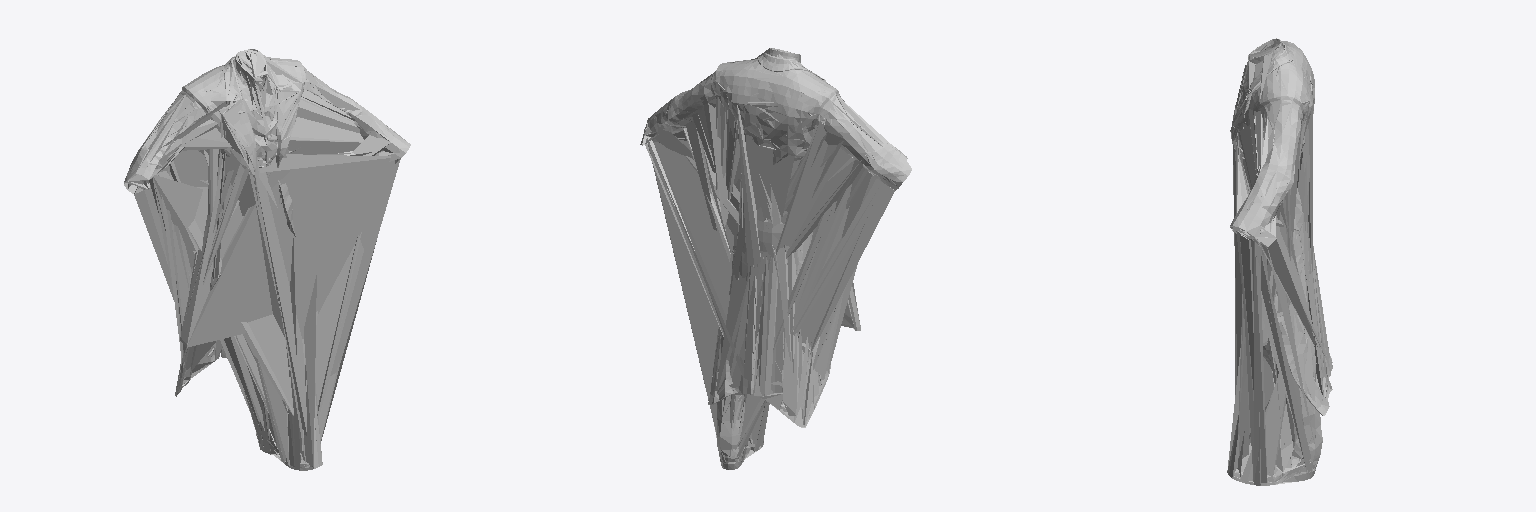
Rendered from Joker.obj.
3 renders of one model, left to right at view 1: azimuth 30°, elevation 25°; view 2: azimuth 150°, elevation 25°; view 3: azimuth 270°, elevation 25°, orthographic.
Parts seen in each view (by area): view 1: Model001_24_head_1_0_0, Model001_24_Body1nPart!_1_0_0, Model001_24_Body!_1_0_0, Model001_25_hair_1_0_0; view 2: Model001_24_Body1nPart!_1_0_0, Model001_24_head_1_0_0, Model001_24_Body!_1_0_0; view 3: Model001_24_head_1_0_0, Model001_24_Body1nPart!_1_0_0, Model001_24_Body!_1_0_0, Model001_25_hair_1_0_0.
Boxes of the visible parts, x1=… form: Model001_24_head_1_0_0: x1=124, y1=59, x2=400, y2=470; Model001_24_Body1nPart!_1_0_0: x1=128, y1=49, x2=409, y2=467; Model001_24_Body!_1_0_0: x1=124, y1=49, x2=410, y2=470; Model001_25_hair_1_0_0: x1=184, y1=62, x2=393, y2=467; Model001_24_Body1nPart!_1_0_0: x1=642, y1=48, x2=910, y2=467; Model001_24_head_1_0_0: x1=640, y1=56, x2=911, y2=464; Model001_24_Body!_1_0_0: x1=642, y1=48, x2=911, y2=469; Model001_24_head_1_0_0: x1=1227, y1=42, x2=1329, y2=483; Model001_24_Body1nPart!_1_0_0: x1=1230, y1=39, x2=1331, y2=485; Model001_24_Body!_1_0_0: x1=1230, y1=38, x2=1332, y2=485; Model001_25_hair_1_0_0: x1=1232, y1=51, x2=1320, y2=485.
Size of the model in its own units: 1.21 by 1.76 by 0.4049.